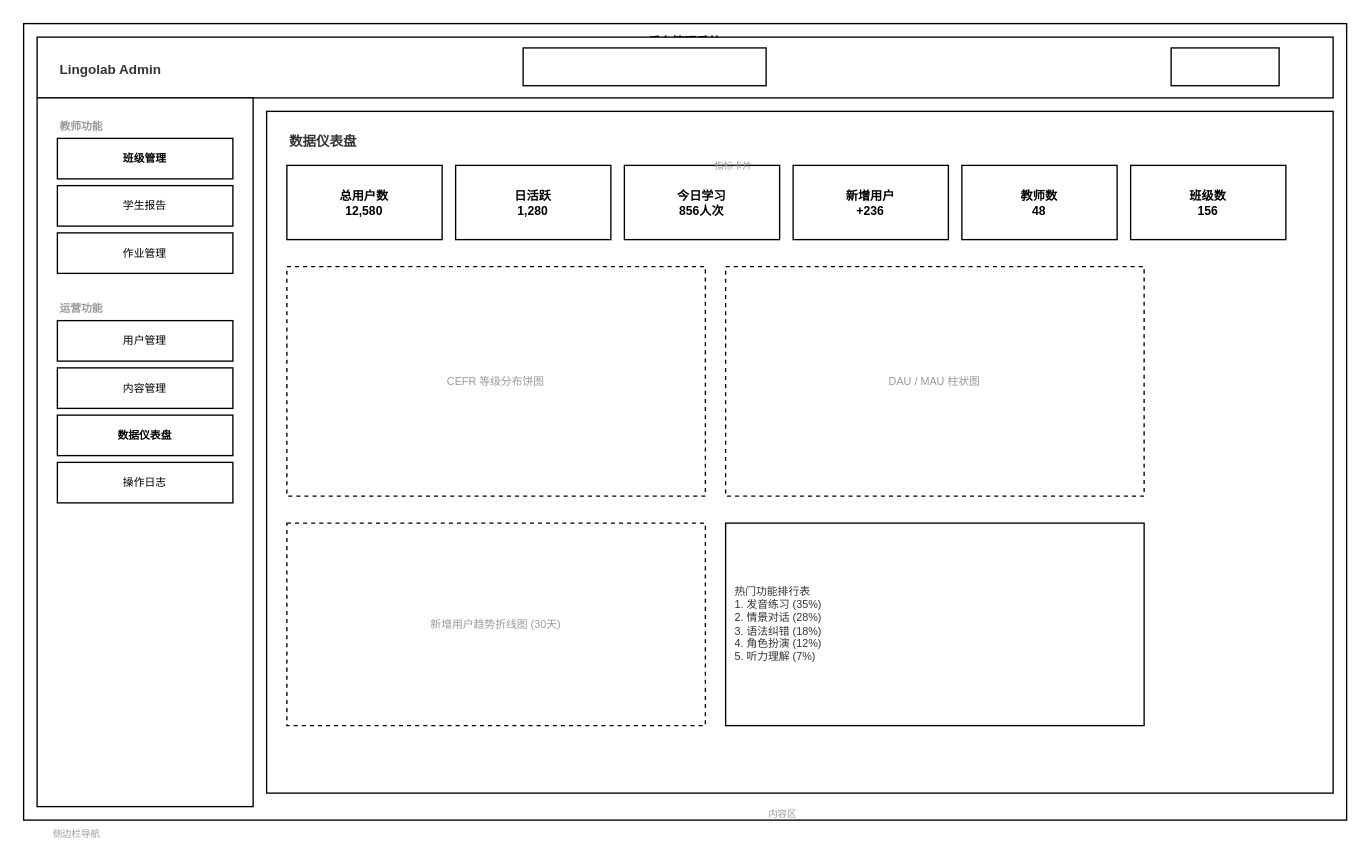
The diagram is 1370 pixels wide and 864 high, and some of its shapes have lost their labels. Each missing label, with the centre of its shape:
搜索用户/班级...: [644,66]
管理员: [1224,66]
